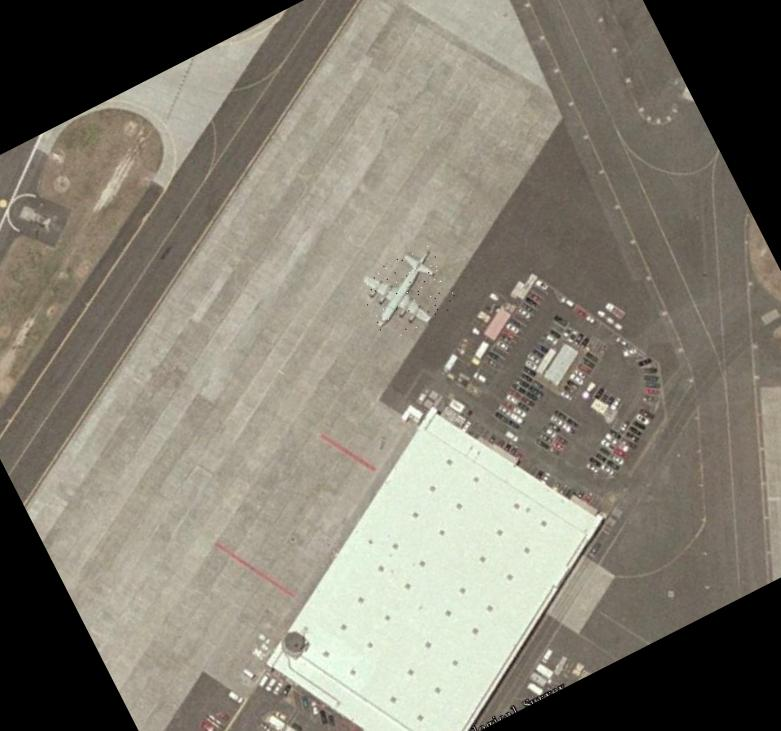A9: (352, 242, 461, 344)
